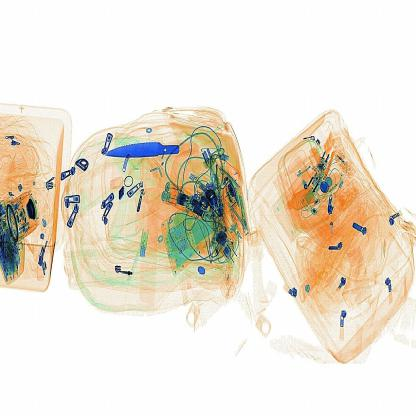wrench: (104, 138, 204, 158)
